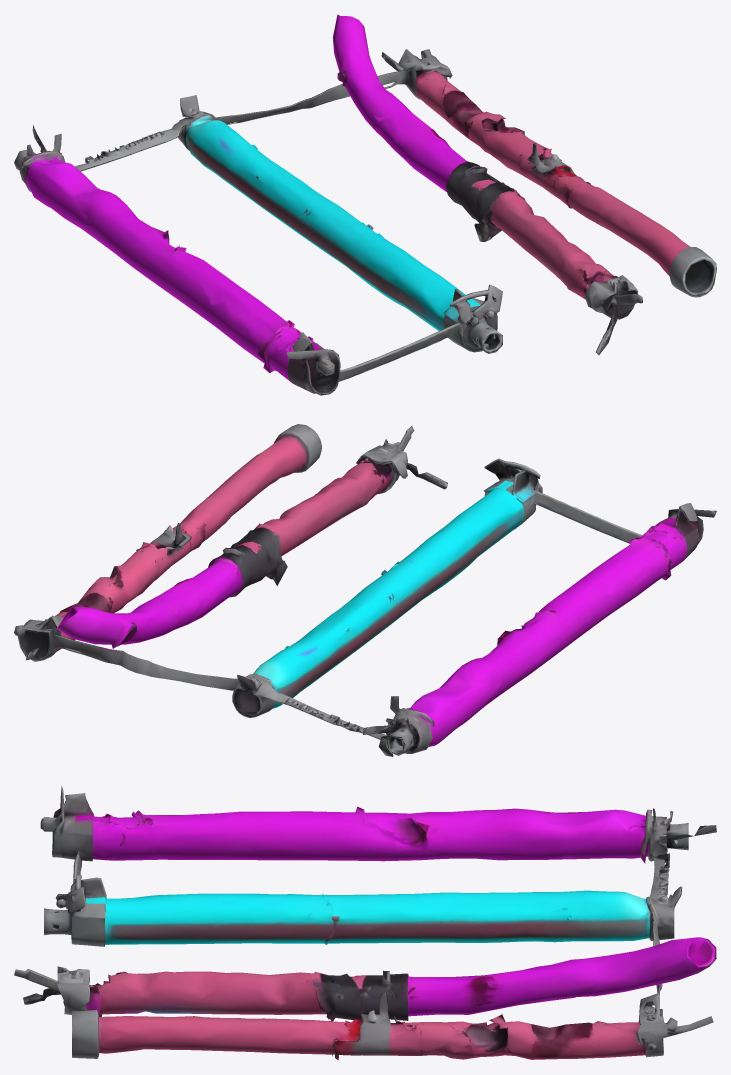
Rendered from level1-legend-neon.glb.
3 renders of one model, top to bottom at view 1: azimuth 30°, elevation 25°; view 2: azimuth 150°, elevation 25°; view 3: azimuth 270°, elevation 25°, orthographic. The views are drawn at different scales.
Parts seen in each view (by area): view 1: tripo_node_954c5a5f-9d35-4907-a853-b65333da6128; view 2: tripo_node_954c5a5f-9d35-4907-a853-b65333da6128; view 3: tripo_node_954c5a5f-9d35-4907-a853-b65333da6128.
Boxes of the visible parts, bbox=[...] form: tripo_node_954c5a5f-9d35-4907-a853-b65333da6128: bbox=[14, 14, 716, 395]; tripo_node_954c5a5f-9d35-4907-a853-b65333da6128: bbox=[14, 424, 716, 756]; tripo_node_954c5a5f-9d35-4907-a853-b65333da6128: bbox=[14, 786, 716, 1060].
Size of the model in its own units: 1.84 by 0.3732 by 2.4.
Materials: 1 (1 with a texture image).
